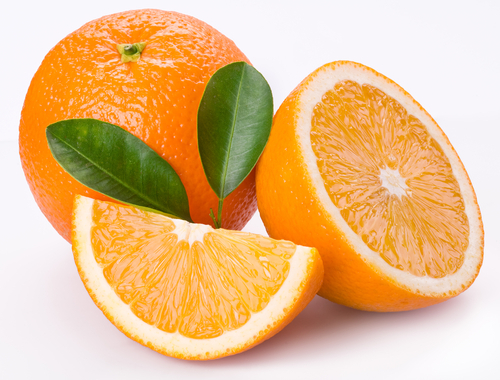orange: (14, 8, 278, 280)
